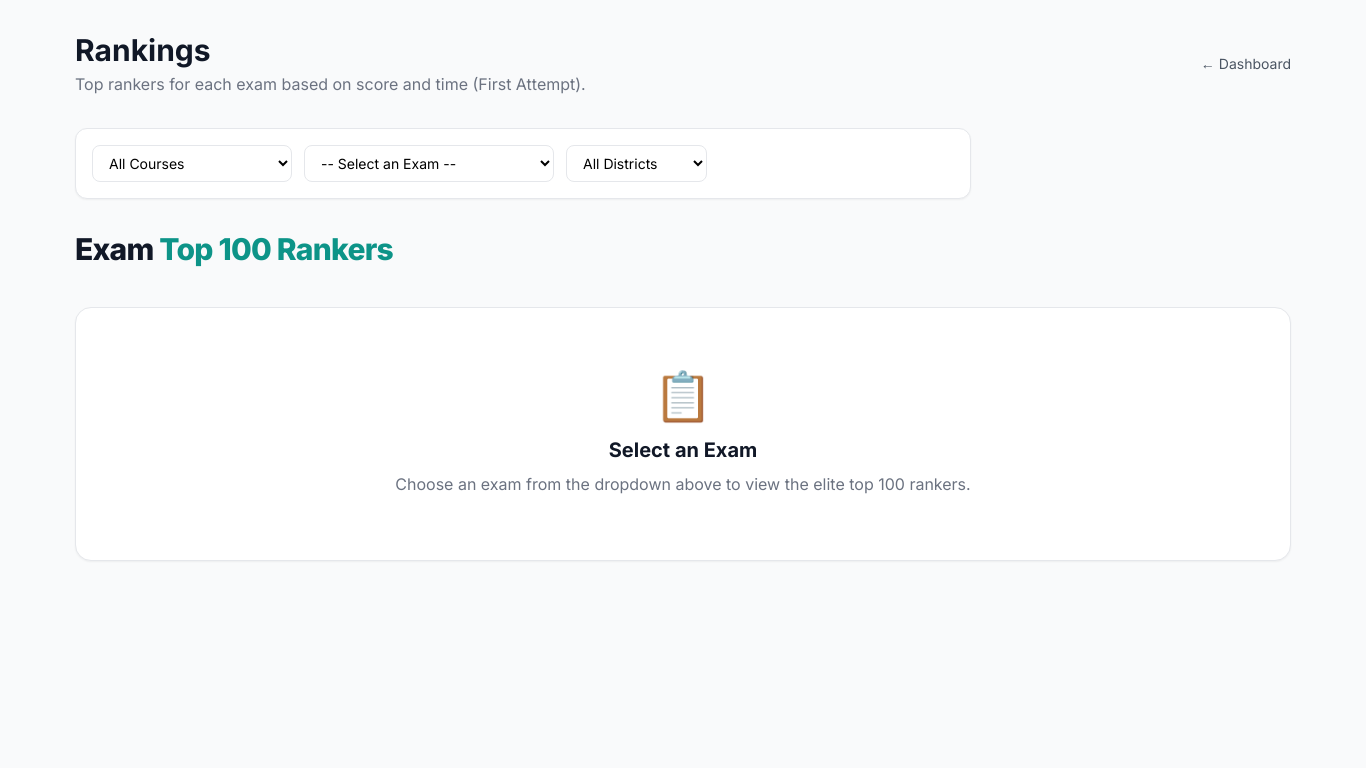
Test: Rankings page › loads the podium, the table and my rank for the chosen exam
Select "Physics Paper 1" in the 2nd dropdown at (429, 164), box [304,145,554,182]
(page scrolled)
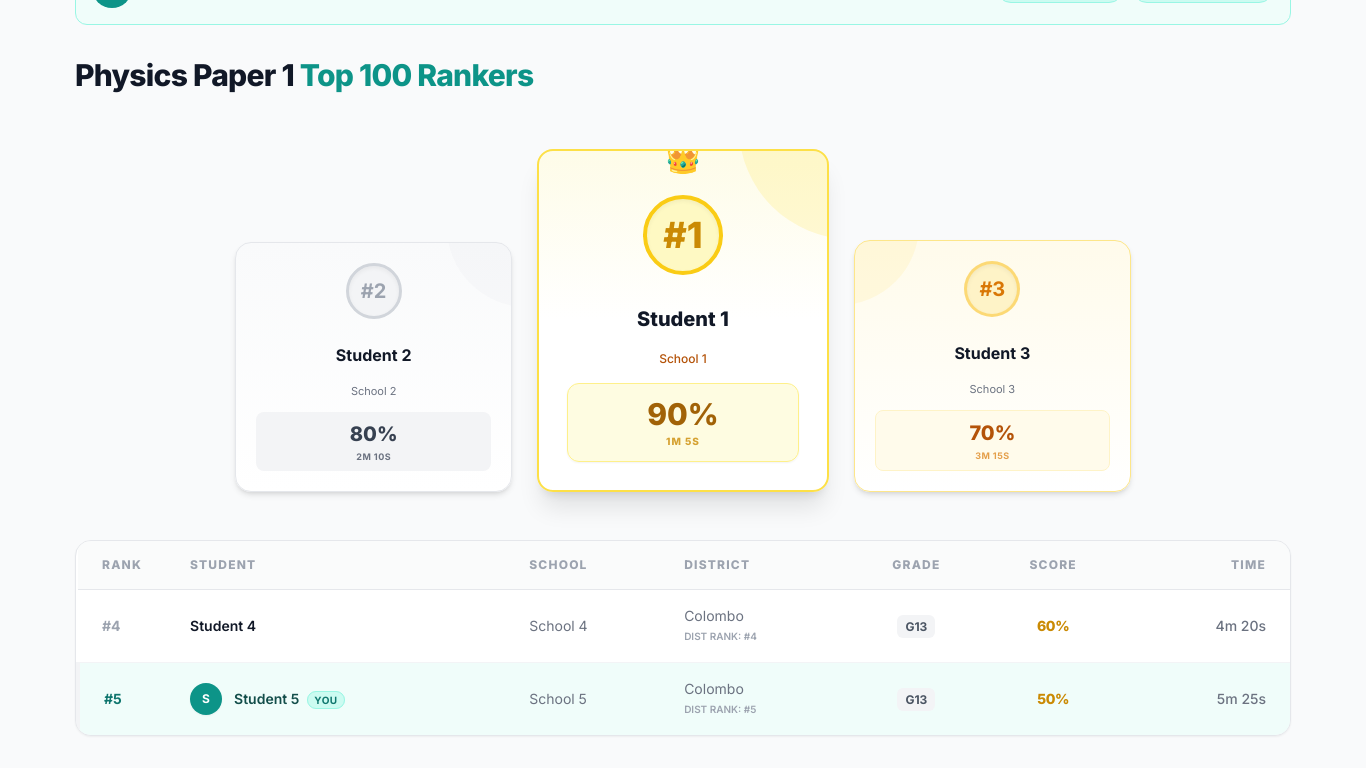
Expected: the heading "Student 1" is shown, [637,307,729,331]
Expected: the text "👑" is shown, [664,149,702,175]
Expected: the text "1m 5s" is shown, [666,435,700,447]
